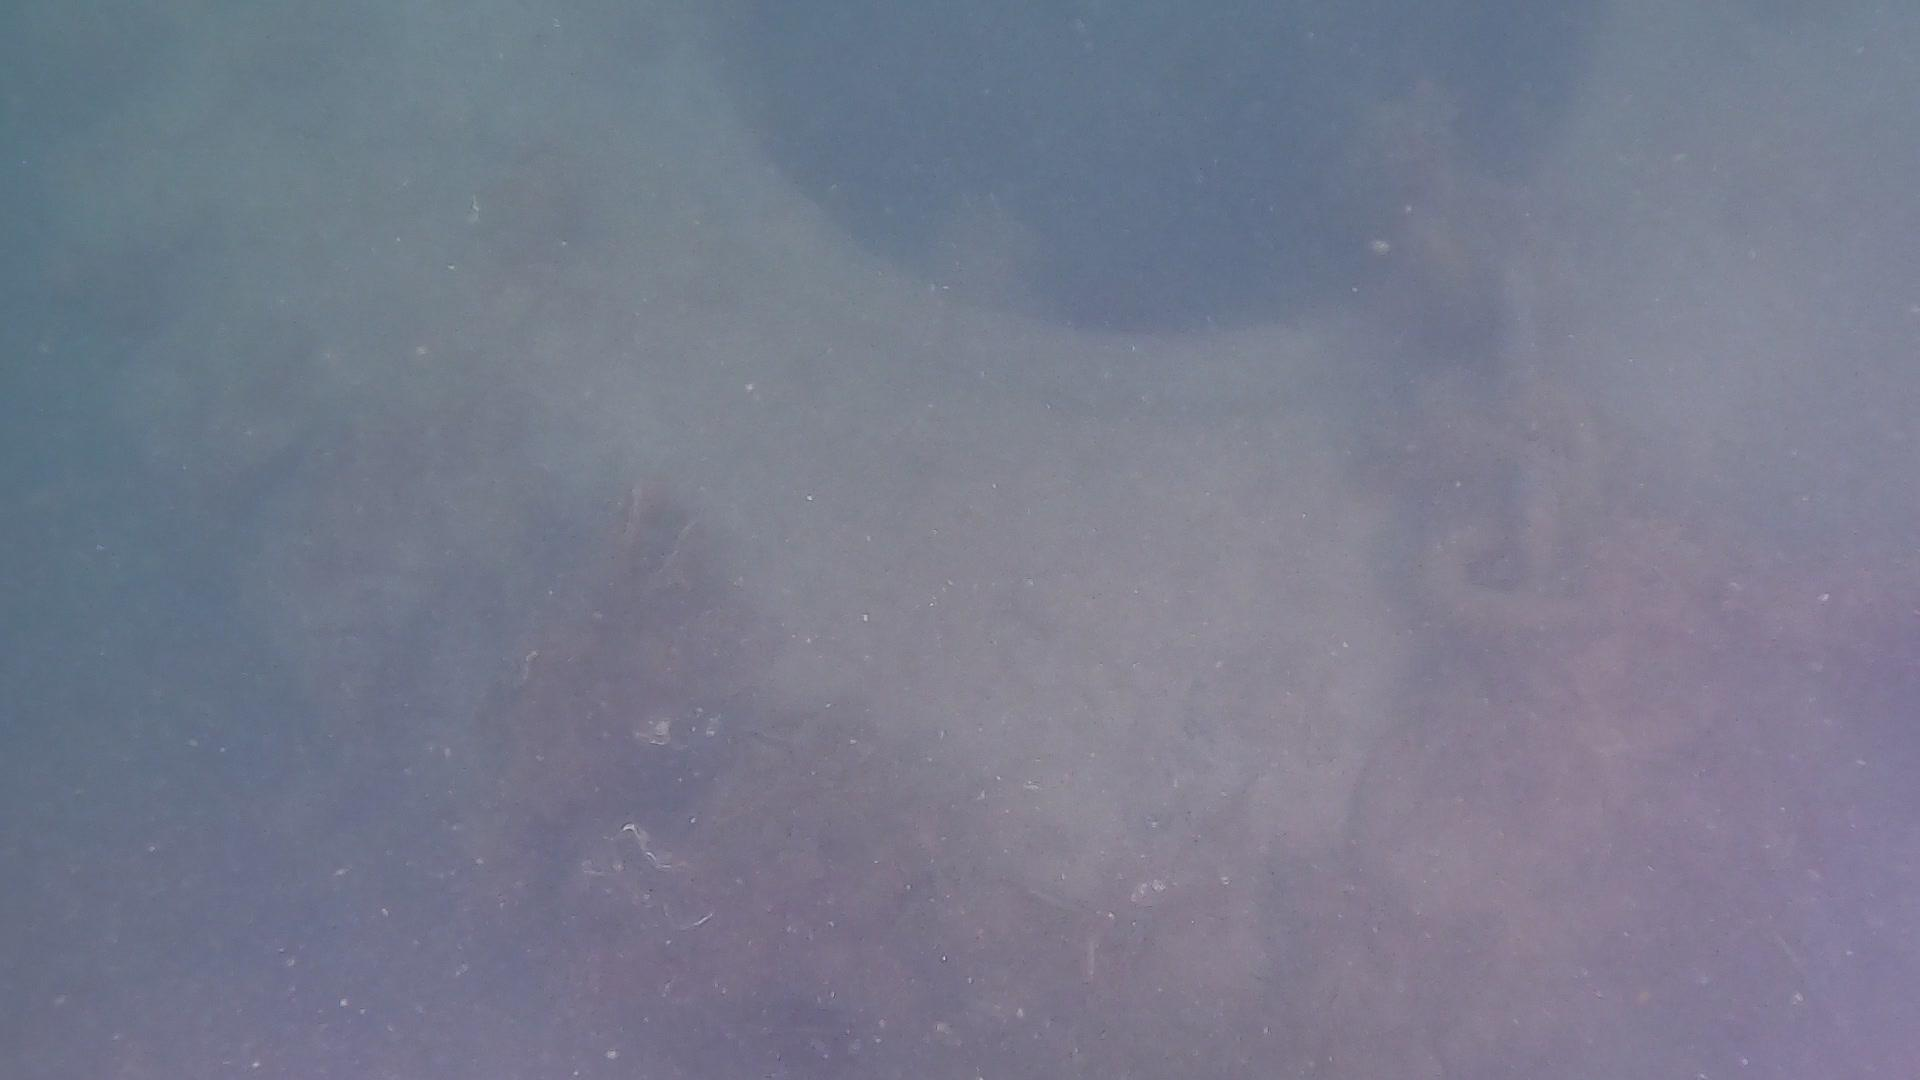tire: (44, 0, 1920, 906)
